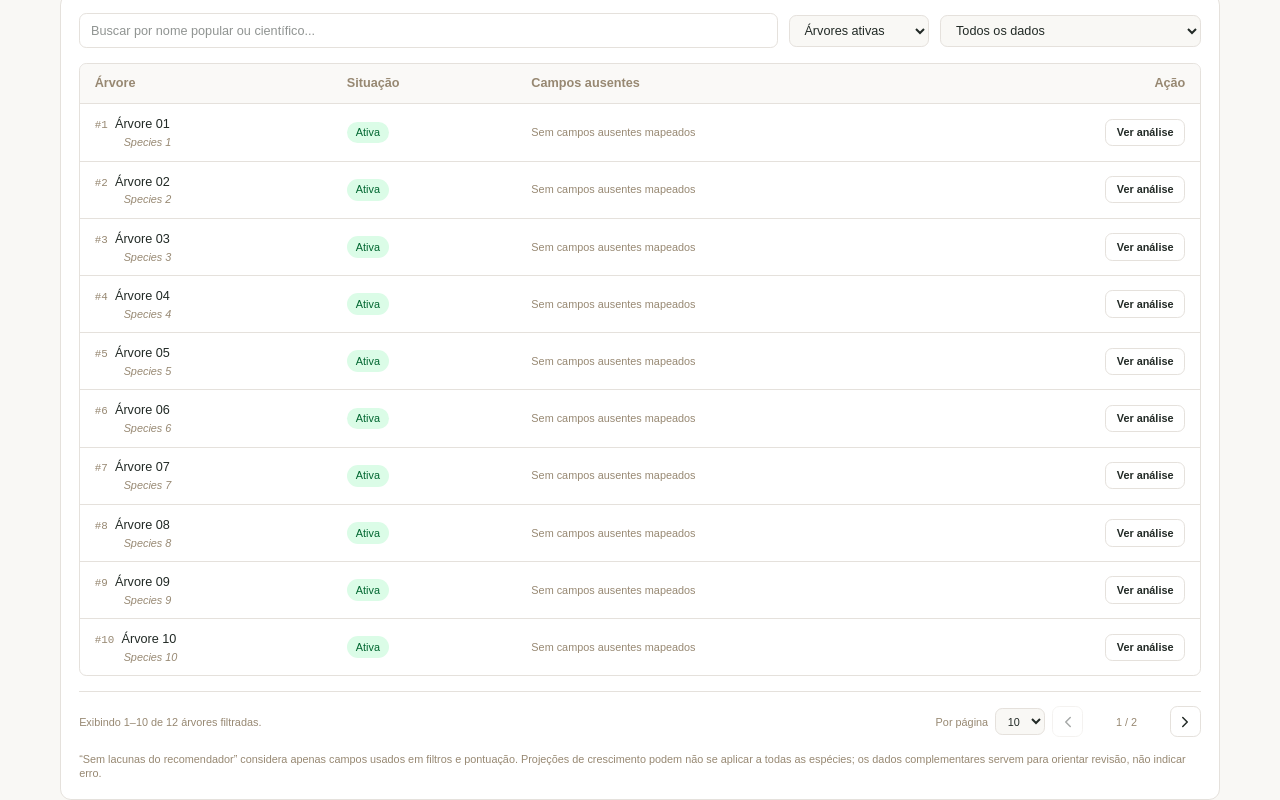
Test case: AdminTreeQualityPage › paginates filtered trees and returns to the first page when the search changes
The image size is (1280, 800).
(page scrolled)
Check: the text "Exibindo 1–10 de 12 árvores filtradas." is shown, box [79,714,261,729]
Click the button named "Próxima página" at x=1185, y=722, box [1170,706,1201,737]
(page scrolled)
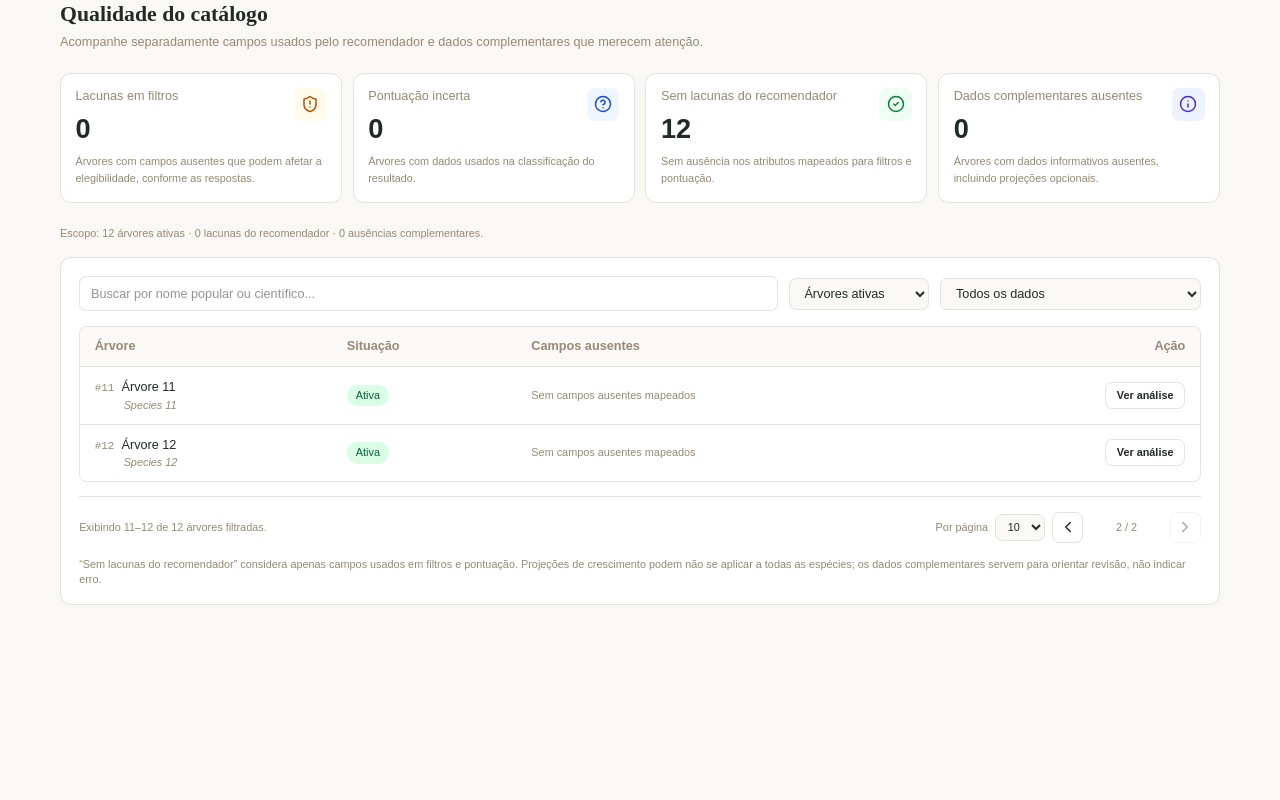
Check: the text "Exibindo 11–12 de 12 árvores filtradas." is shown, box [79,520,267,534]
Type "árvore" into the field with placeholder "Buscar por nome popular ou científico..." at x=428, y=294, box [79,276,778,311]
(page scrolled)
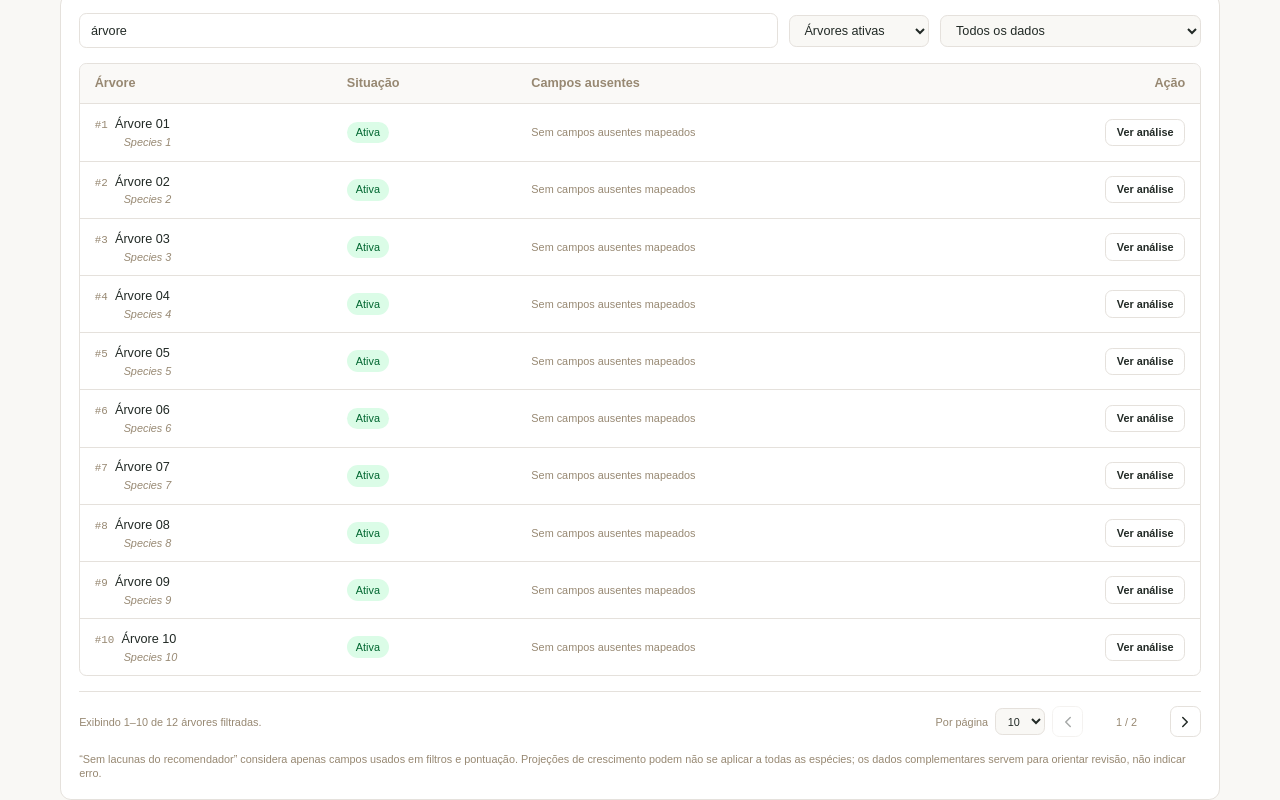
Check: the text "Exibindo 1–10 de 12 árvores filtradas." is shown, box [79,714,261,729]
